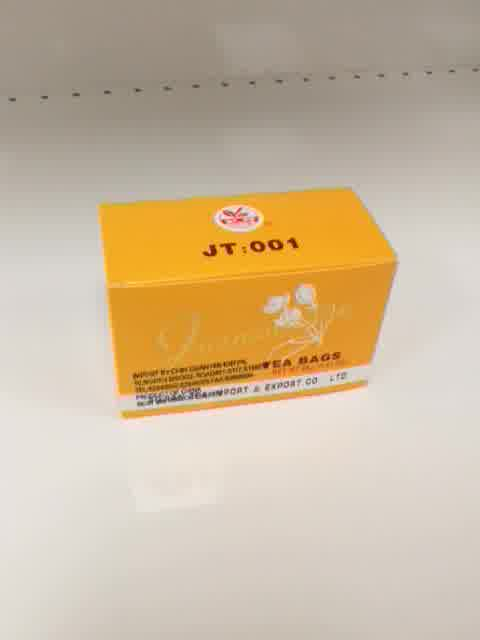jasminetea: (98, 184, 401, 422)
